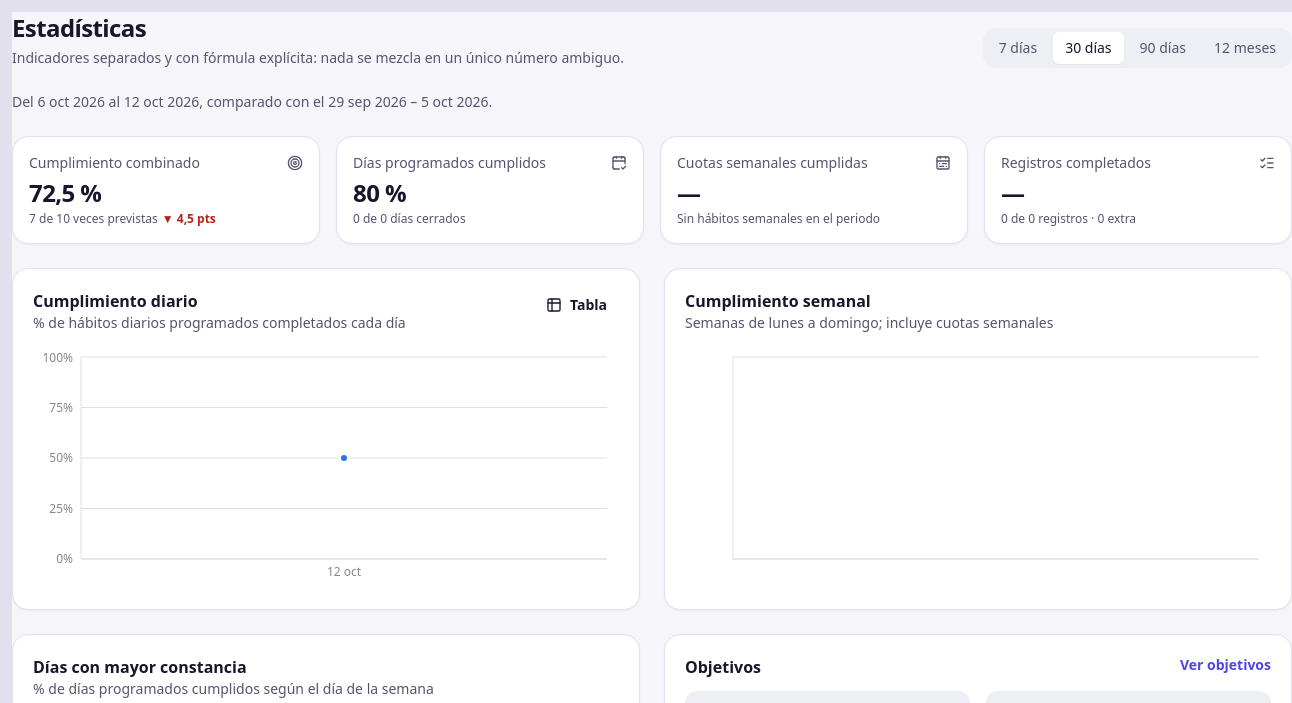
Test: statistics › shows separate indicators and a table view of each chart
Expected: the text "72,5 %" is shown, [29,176,101,209]
Expected: the text "▼ 4,5 pts" is shown, [162,210,216,227]
What coordinates should you click on to do the following:
click the button with aria-label "Ver tabla: Cumplimiento diario"
I would click on:
 (576, 305)
Its box is [534,289,619,321].
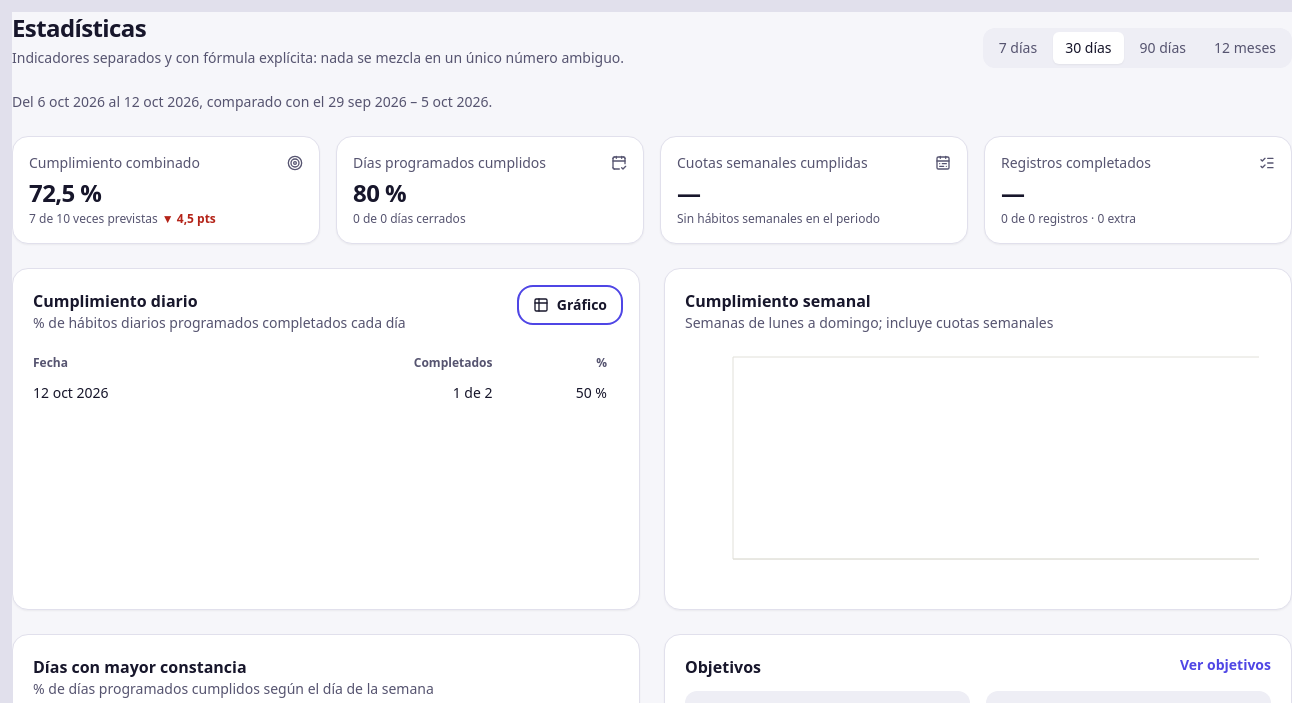
Expected: the text "1 de 2" is shown, [265,377,504,409]
Expected: the text "50 %" is shown, [504,377,619,409]
